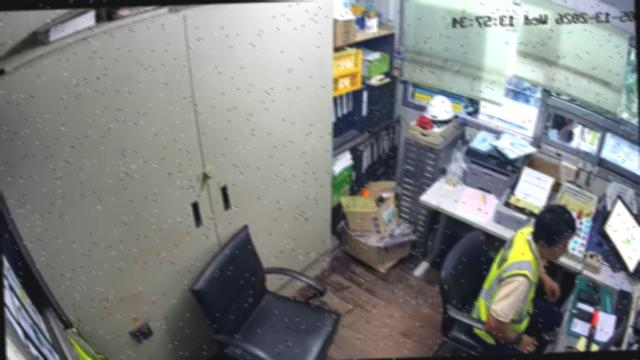Head: (531, 205, 576, 260)
People: (471, 205, 576, 354)
Phone: (575, 289, 600, 306), (572, 308, 593, 323)
